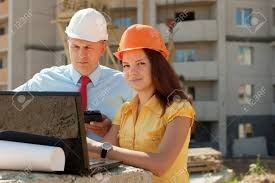helmet: (112, 23, 172, 64), (63, 7, 109, 44)
person with partial safety: (103, 22, 197, 165), (23, 5, 122, 92)
